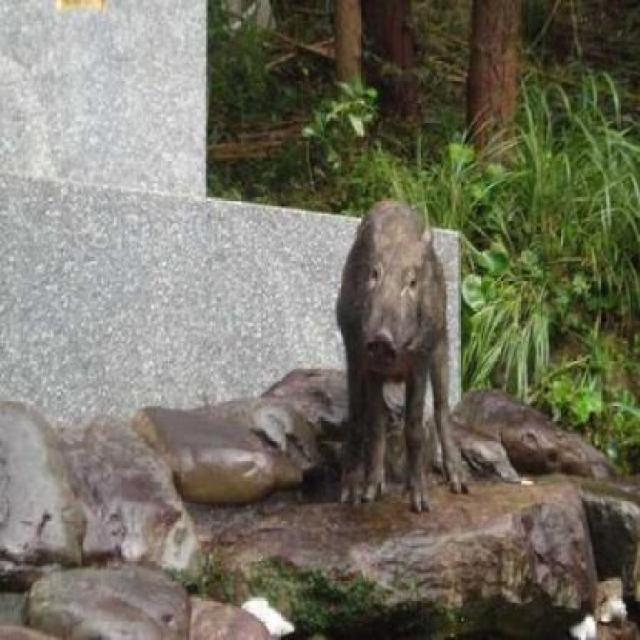pig: (303, 163, 479, 531)
